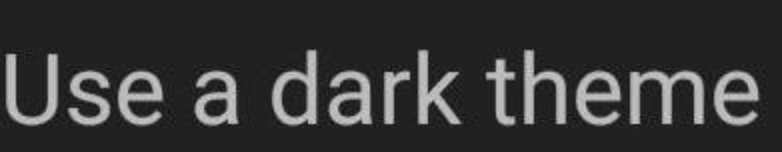TextView: (1, 1, 781, 151)
